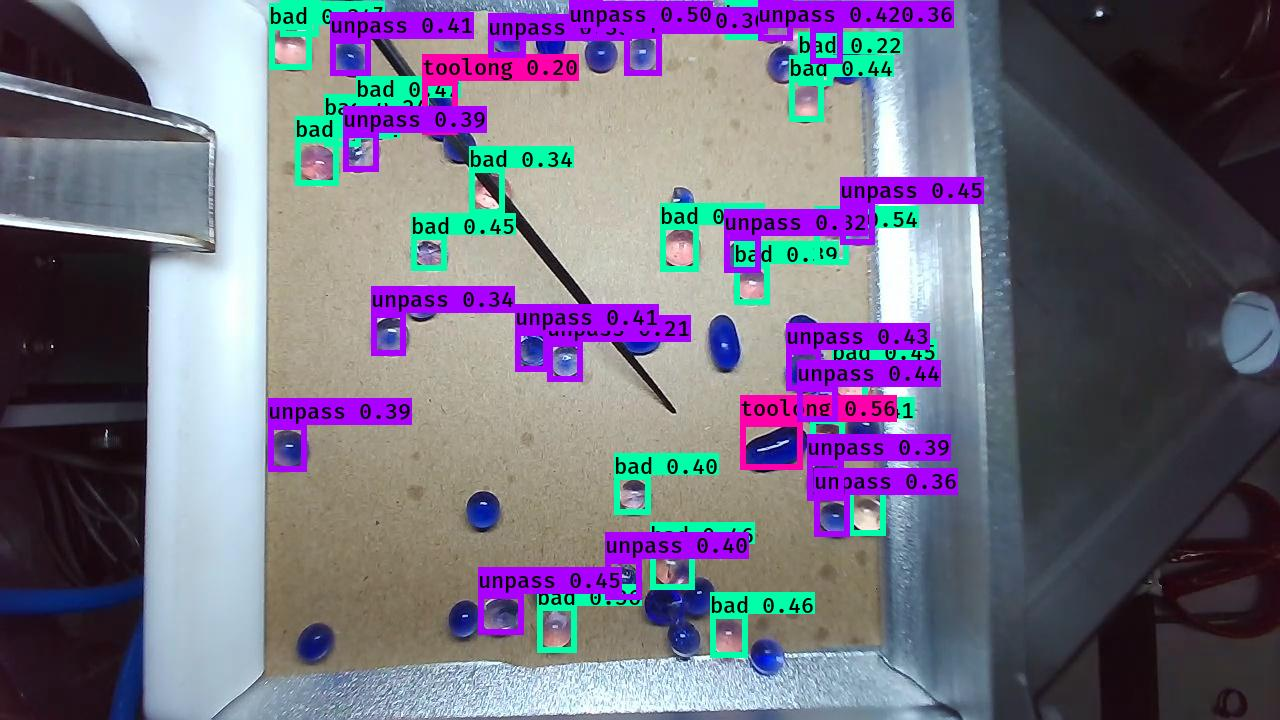bad: (649, 545, 695, 590), (295, 143, 342, 187), (661, 223, 702, 268), (787, 81, 826, 125), (272, 29, 313, 70), (706, 617, 747, 658), (845, 496, 886, 536), (359, 101, 395, 142), (538, 611, 574, 652), (781, 16, 814, 60), (799, 50, 836, 89), (814, 229, 852, 266), (409, 239, 451, 272), (733, 269, 770, 306), (828, 359, 867, 394), (724, 1, 758, 41), (614, 478, 651, 513), (282, 1, 319, 35), (329, 118, 365, 152), (811, 426, 845, 459)
defact: (665, 187, 695, 224)
pass: (617, 318, 663, 357), (296, 622, 336, 665), (530, 567, 569, 611), (643, 587, 686, 626), (847, 410, 882, 456), (465, 489, 502, 532), (582, 36, 619, 79), (446, 597, 481, 641), (565, 302, 605, 339), (534, 22, 569, 62), (782, 312, 819, 349), (667, 623, 703, 660), (686, 574, 715, 619), (834, 49, 866, 84)
toolong: (740, 423, 808, 472), (708, 314, 743, 376)
unpass: (267, 428, 313, 473), (784, 349, 829, 393), (481, 591, 522, 637), (370, 316, 410, 358), (620, 33, 658, 75), (748, 634, 786, 676), (808, 462, 845, 502), (811, 27, 848, 67), (756, 1, 790, 44), (401, 284, 439, 322), (336, 40, 373, 79), (497, 16, 533, 56), (517, 333, 552, 373), (565, 2, 600, 41), (817, 496, 853, 533), (345, 137, 382, 173), (549, 343, 585, 380), (842, 209, 876, 248), (799, 388, 835, 424), (607, 562, 641, 599), (726, 238, 760, 273), (767, 44, 797, 83)
